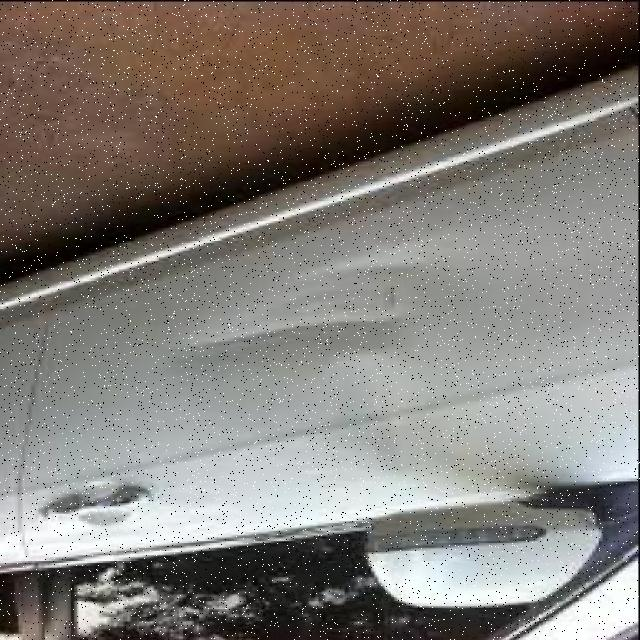damage: (144, 243, 437, 480)
